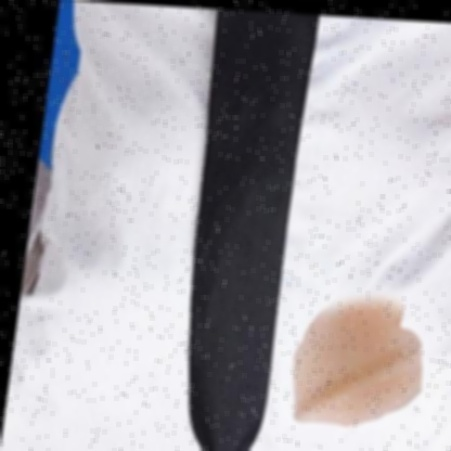coffee: (293, 298, 423, 425)
